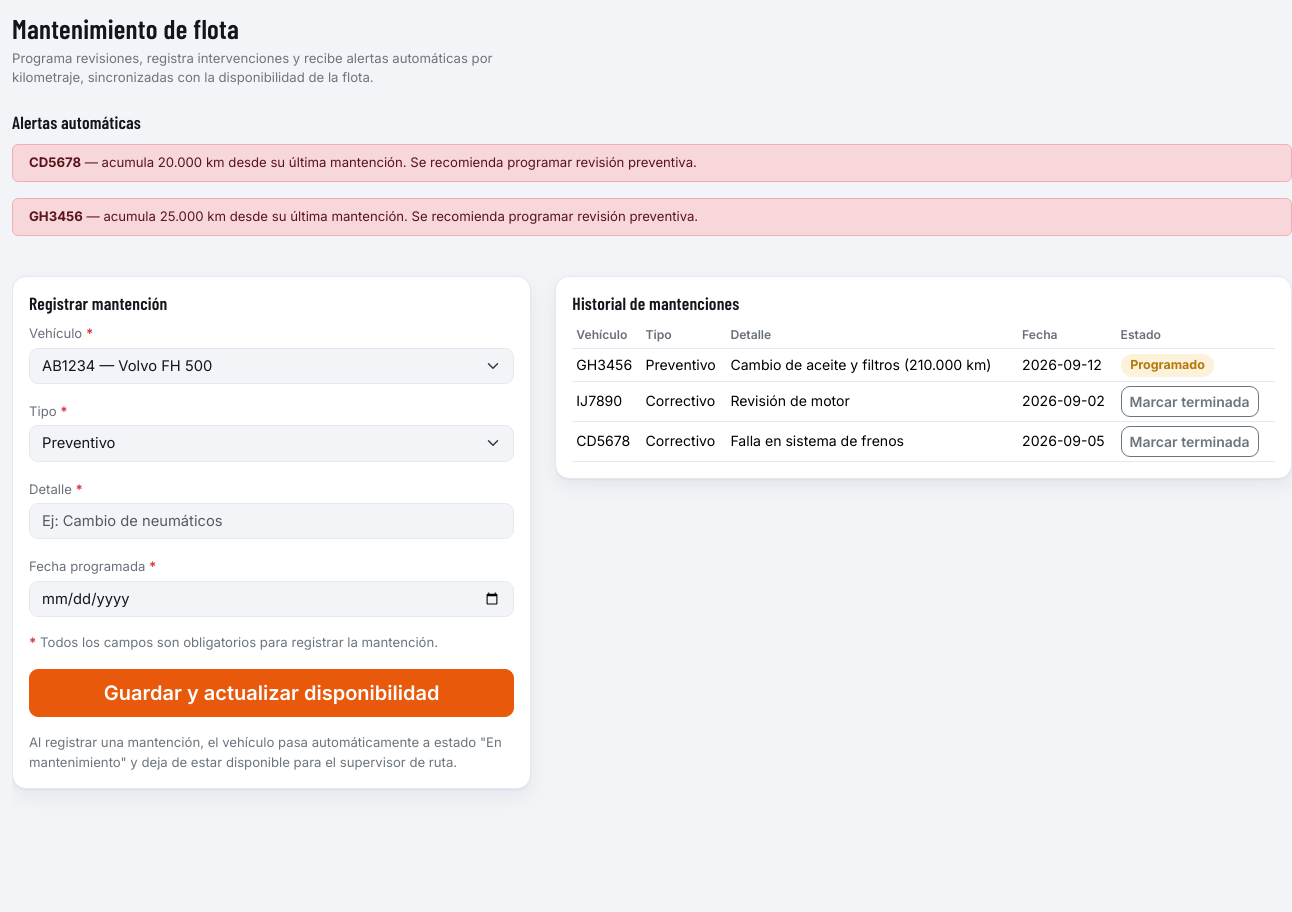
Test: MantenimientoView › marca los campos faltantes si se guarda el formulario vacío
Click the button "Guardar y actualizar disponibilidad" at (272, 693), box [29,669,514,717]
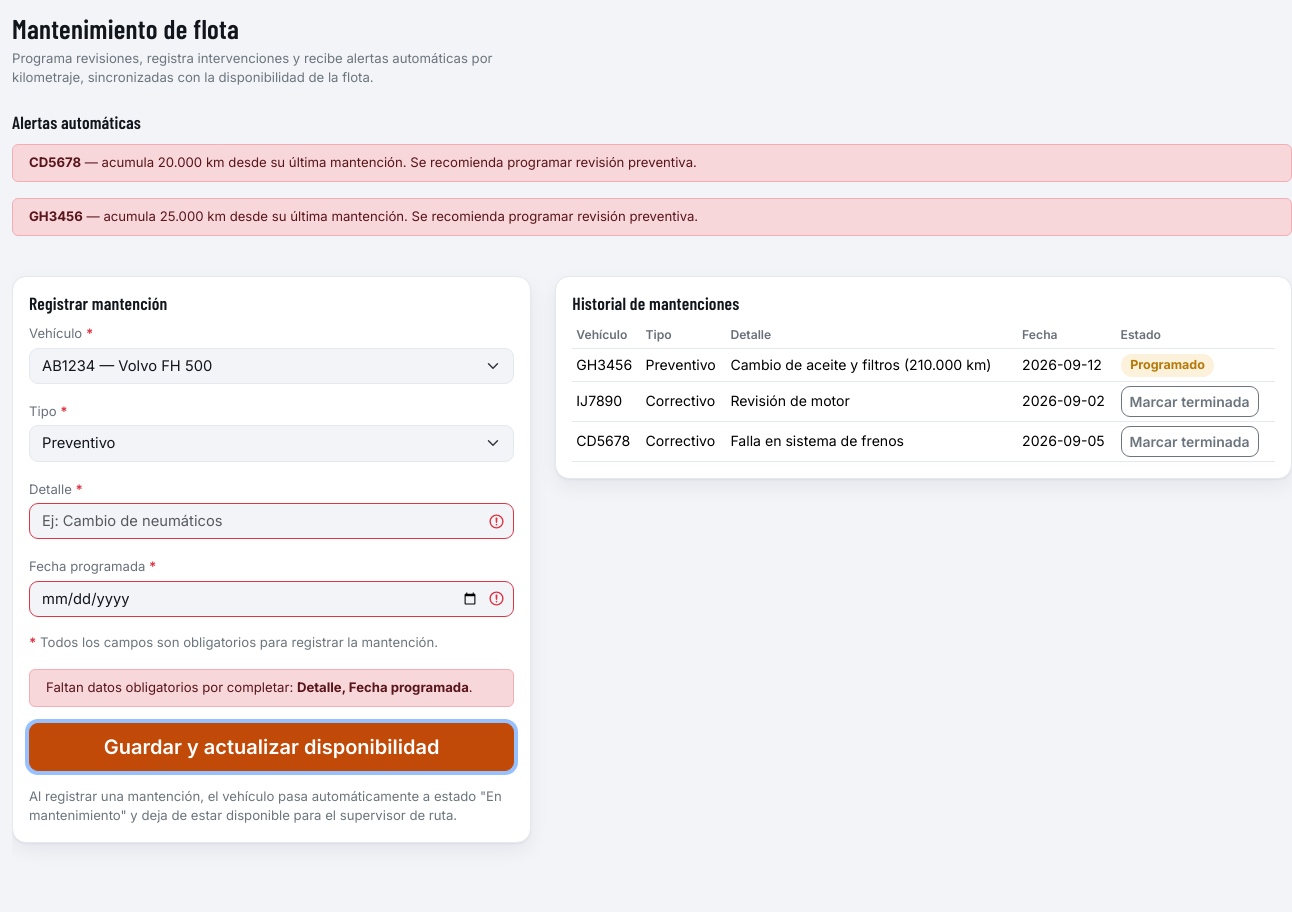
expect the text "Faltan datos obligatorios por completar: Detalle, Fecha programada." is shown: met, box [29,669,514,706]
